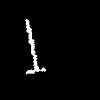double_crochet: (25, 19, 45, 73)
